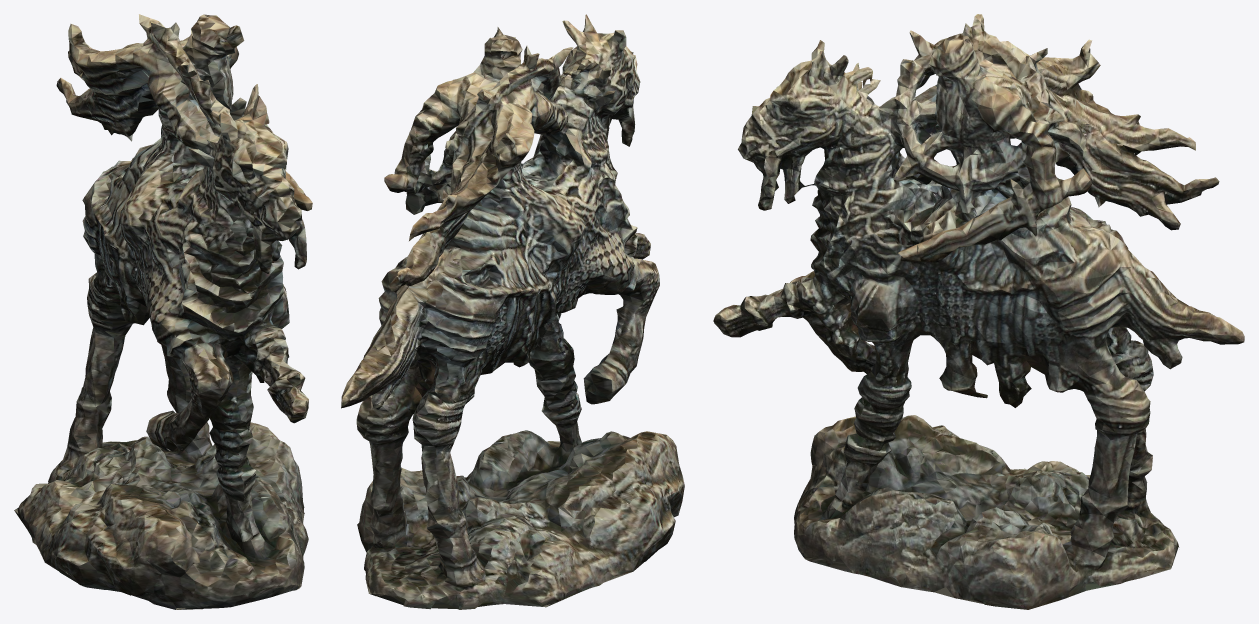
The model's file is knight_errant.glb.
3 renders of one model, left to right at view 1: azimuth 30°, elevation 25°; view 2: azimuth 150°, elevation 25°; view 3: azimuth 270°, elevation 25°, orthographic. The views are drawn at different scales.
Visible parts, largest first — view 1: geometry_0; view 2: geometry_0; view 3: geometry_0.
Part boxes in pixels (<box>): geometry_0: <box>14,14,312,609</box>; geometry_0: <box>341,14,684,609</box>; geometry_0: <box>713,14,1244,609</box>.
Size of the model in its own units: 0.0188 by 0.0333 by 0.0311.
Materials: 1 (1 with a texture image).
